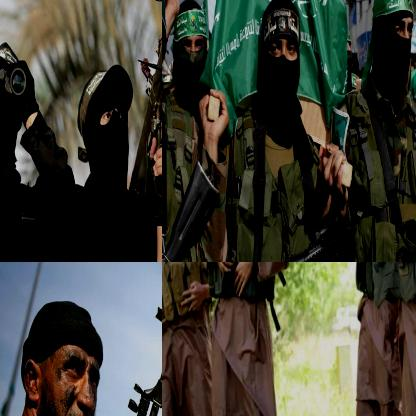rifle: (123, 0, 161, 217), (99, 305, 161, 415), (209, 217, 354, 261), (162, 157, 220, 261)
